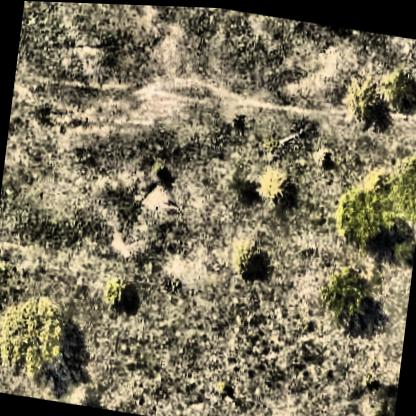tree-top: (0, 293, 76, 382), (336, 177, 394, 250), (318, 260, 370, 321), (388, 135, 416, 227), (344, 76, 384, 122), (233, 243, 273, 282), (262, 165, 300, 201), (385, 68, 416, 111), (104, 276, 143, 309)
